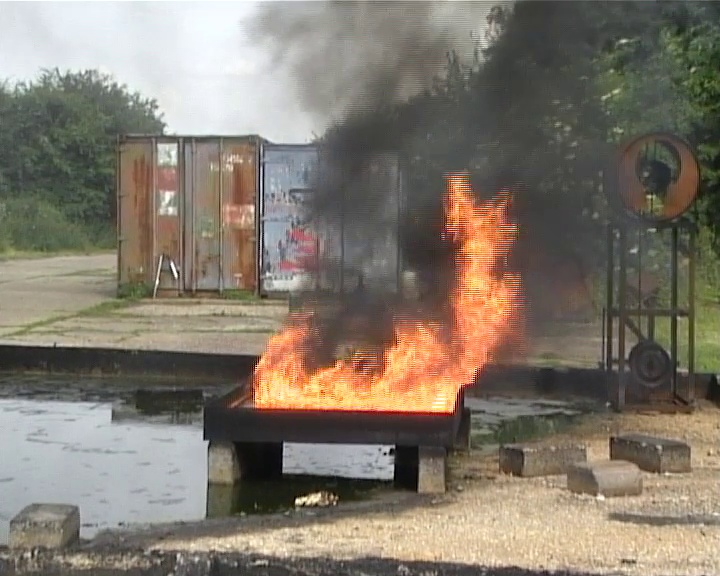fire: (253, 174, 517, 410)
